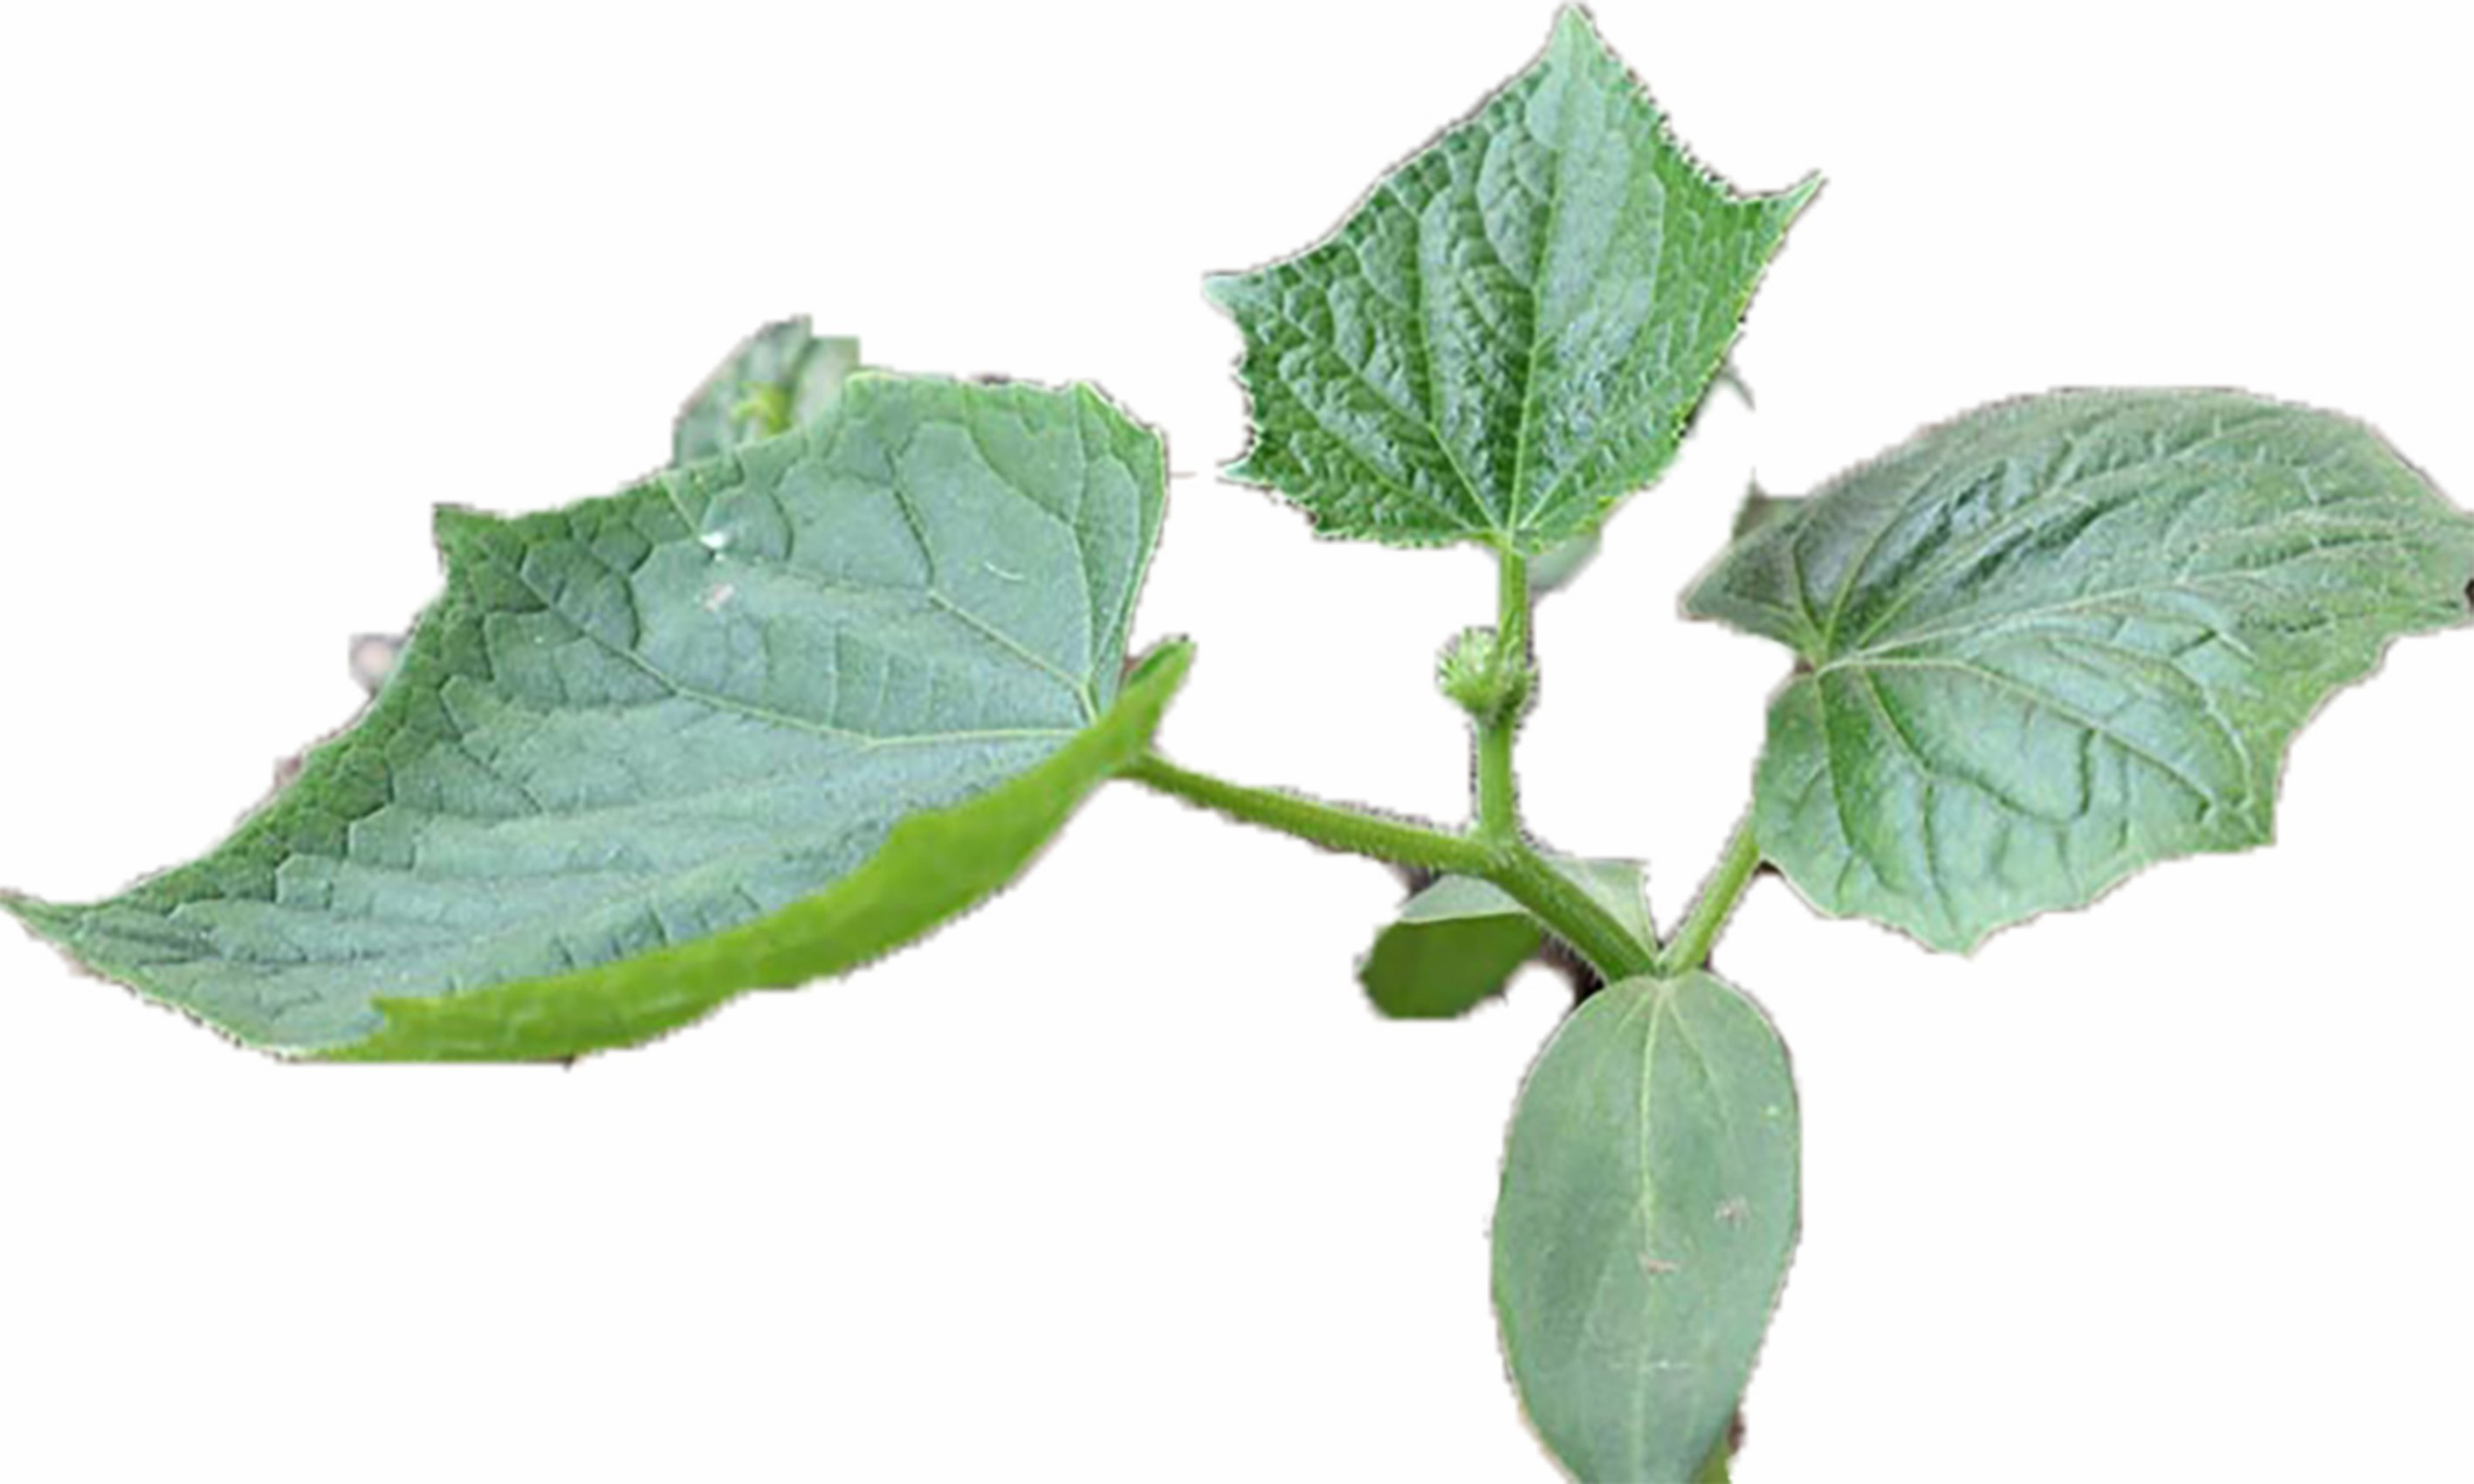cucumber_plant: (39, 67, 2470, 1055)
